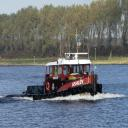tugboat: (20, 29, 105, 105)
